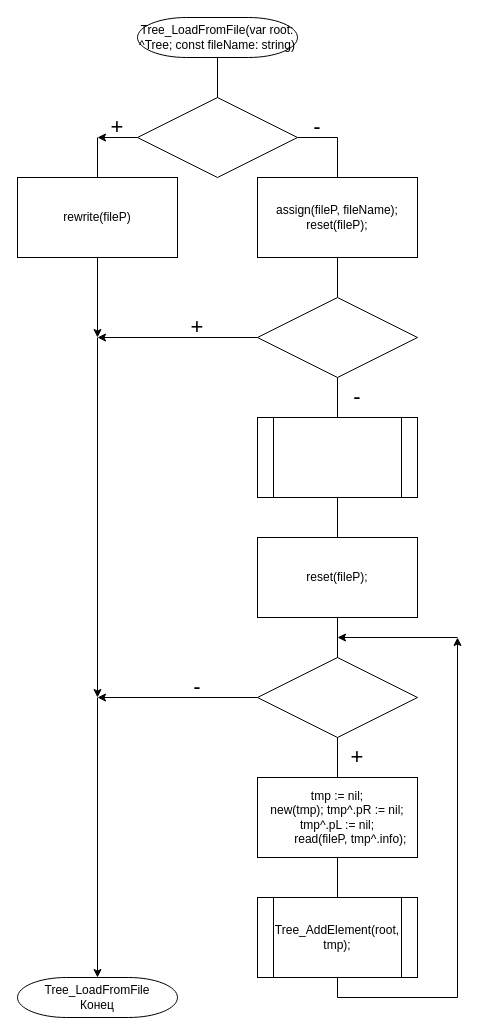
Image size: 483x1035. Some labels were removed from this diagram. Each missing label, with the centre of its shape:
"fileSize(fileP) < 1 ?" goes at pixel 337 337.
"not eof(fileP) ?" goes at pixel 337 697.
"not fileExists(fileName) ?" goes at pixel 217 137.
"Tree_Delete(root)" goes at pixel 337 457.
